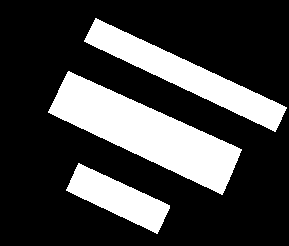parkingspot: (84, 18, 286, 131), (48, 91, 232, 194), (58, 71, 241, 171), (66, 163, 169, 233)
